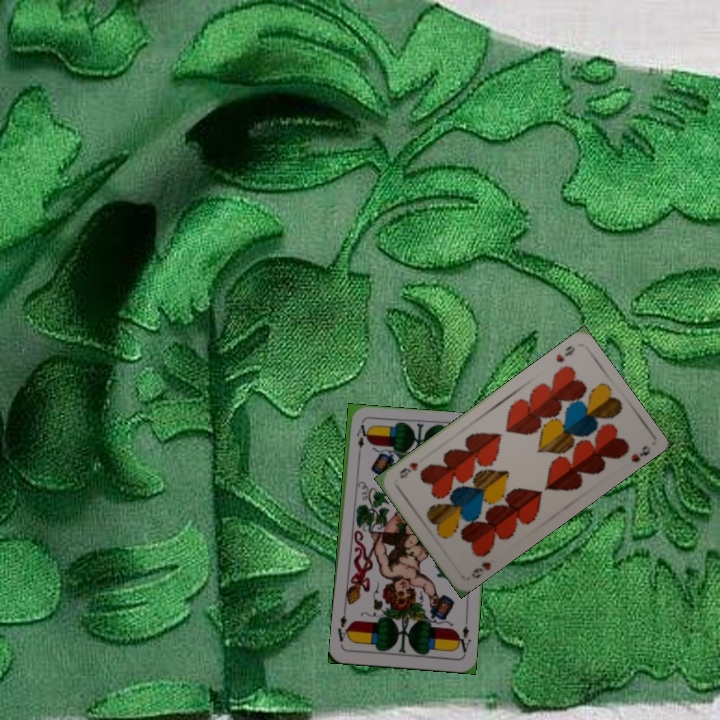EA: (453, 616, 473, 657), (352, 420, 368, 460)
H9: (467, 557, 494, 581), (552, 341, 578, 365)
